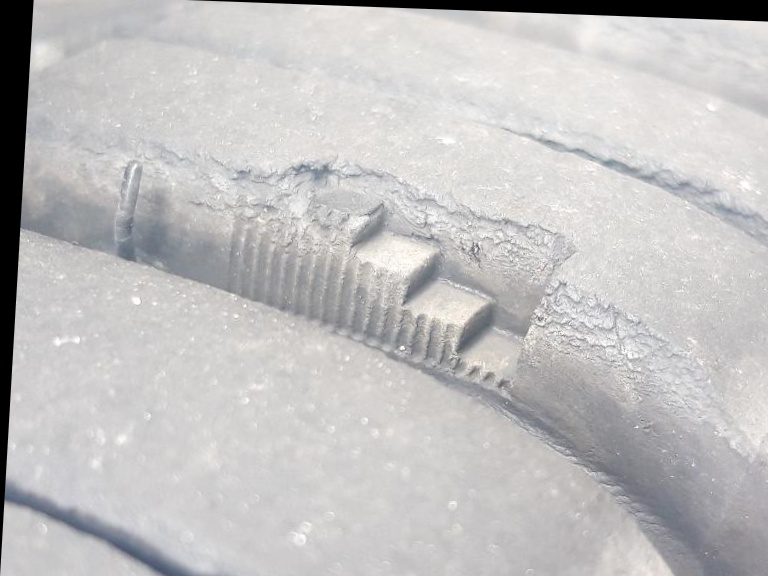temoin:80: (209, 132, 595, 416)
